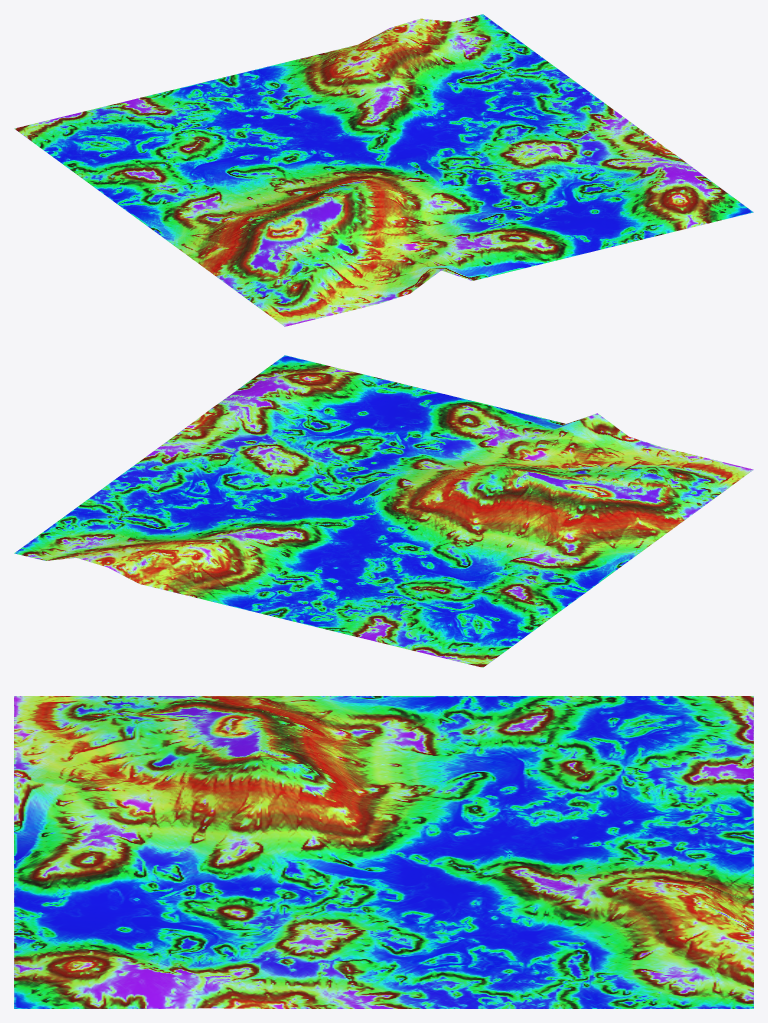
File: Tarrain.FBX
The picture shows the model from 3 angles, top to bottom: view 1: azimuth 30°, elevation 25°; view 2: azimuth 150°, elevation 25°; view 3: azimuth 270°, elevation 25°; orthographic projection. The views are drawn at different scales.
Visible parts, largest first — view 1: Tarrain; view 2: Tarrain; view 3: Tarrain.
Boxes of the visible parts, box(x1,y1,x2,y2) form: Tarrain: box(14, 14, 753, 326); Tarrain: box(14, 355, 753, 667); Tarrain: box(14, 696, 753, 1008).
Bounding box in the file's own units: 140 × 8.6 × 140.
